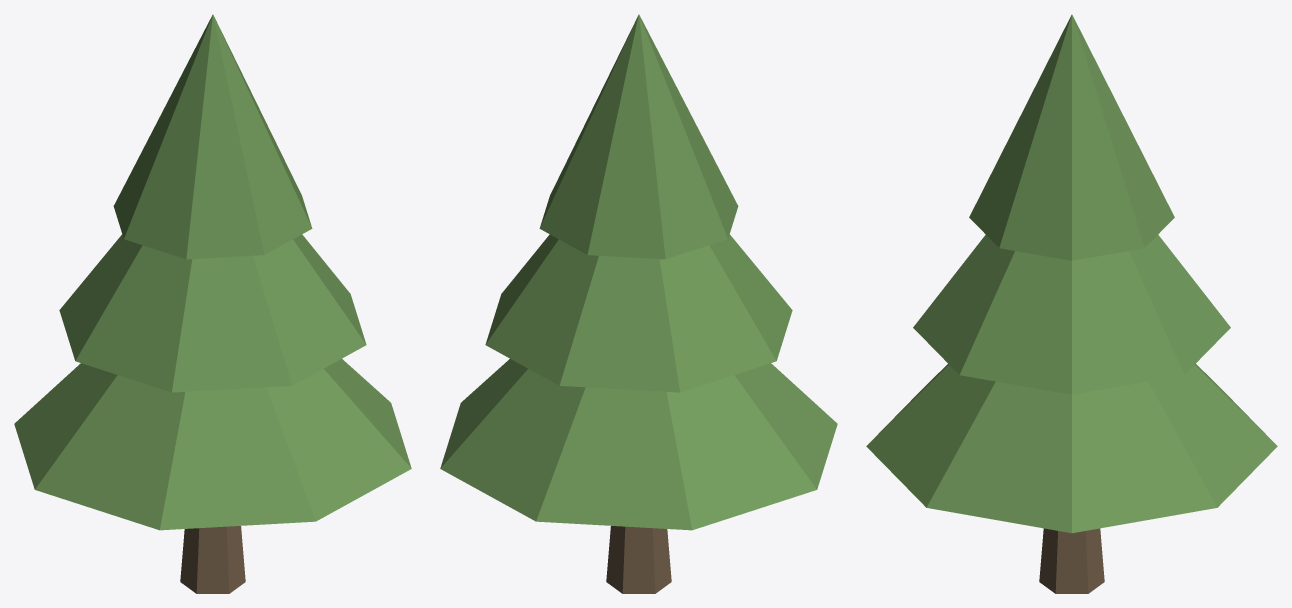
The model's file is conifer.glb.
The picture shows the model from 3 angles, left to right: view 1: azimuth 30°, elevation 25°; view 2: azimuth 150°, elevation 25°; view 3: azimuth 270°, elevation 25°; orthographic projection.
Parts seen in each view (by area): view 1: conifer; view 2: conifer; view 3: conifer.
Part boxes in pixels (x1,y1,x2,y2): conifer: [14, 14, 411, 593]; conifer: [440, 14, 837, 593]; conifer: [866, 14, 1277, 593].
Size of the model in its own units: 4.4 by 6.7 by 4.4.
